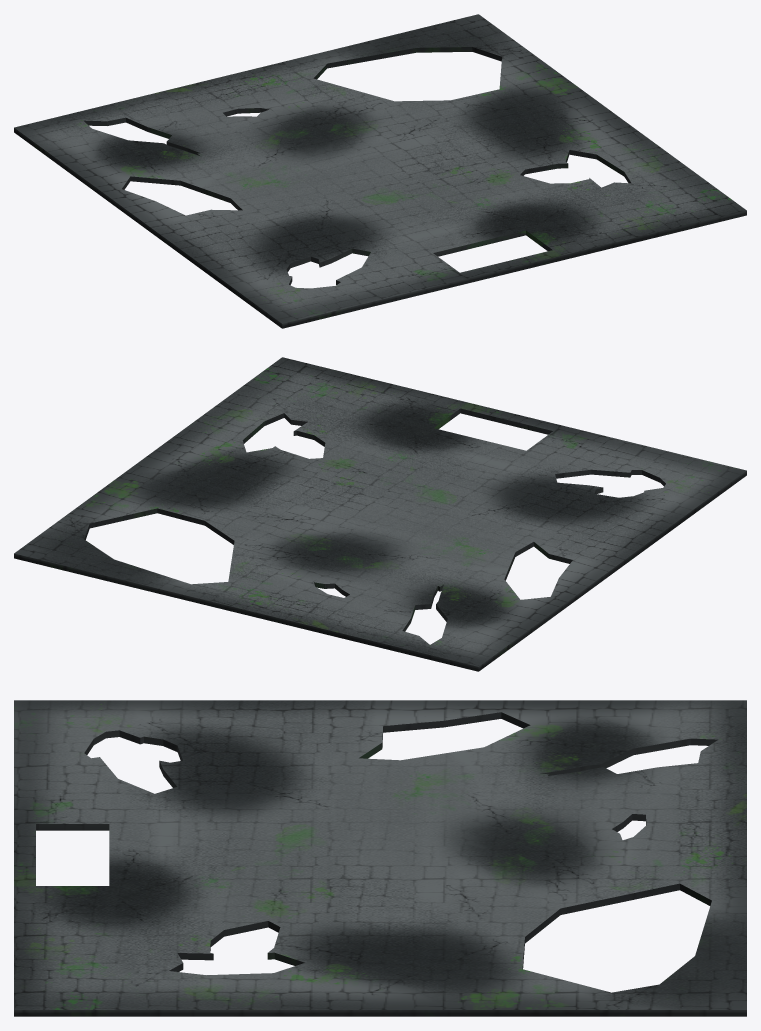
File: Floor 3.fbx
The picture shows the model from 3 angles, top to bottom: view 1: azimuth 30°, elevation 25°; view 2: azimuth 150°, elevation 25°; view 3: azimuth 270°, elevation 25°; orthographic projection. The views are drawn at different scales.
Visible parts, largest first — view 1: Floor 3; view 2: Floor 3; view 3: Floor 3.
Part boxes in pixels (<box>): Floor 3: <box>14,14,746,328</box>; Floor 3: <box>14,357,746,671</box>; Floor 3: <box>14,700,746,1016</box>.
Bounding box in the file's own units: 2000 × 20 × 2000.
